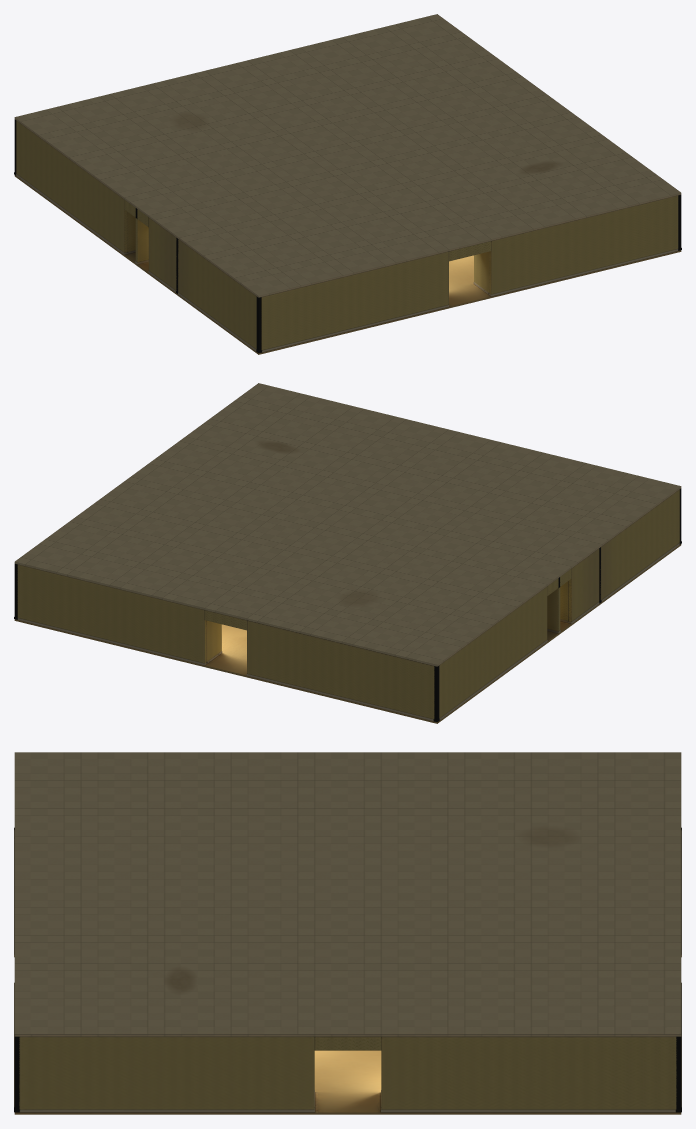
3 views of the same model, one above another, from view 1: azimuth 30°, elevation 25°; view 2: azimuth 150°, elevation 25°; view 3: azimuth 270°, elevation 25° (orthographic). The views are drawn at different scales.
Visible parts, largest first — view 1: Ceiling, Walls, Floor, Pillars; view 2: Ceiling, Walls, Floor, Pillars; view 3: Ceiling, Walls, Floor, Pillars.
Part boxes in pixels (box(x1,y1,x2,y2)): Ceiling: box(14, 14, 681, 297); Walls: box(14, 119, 681, 350); Floor: box(14, 175, 681, 354); Pillars: box(14, 172, 681, 353); Ceiling: box(14, 383, 681, 666); Walls: box(14, 488, 681, 719); Floor: box(14, 544, 681, 723); Pillars: box(14, 541, 681, 722); Ceiling: box(14, 752, 681, 1036); Walls: box(14, 1036, 681, 1109); Floor: box(14, 1050, 681, 1114); Pillars: box(14, 827, 681, 1112).
Size of what is drawn, in the model's own units: 24.04 by 3.2 by 24.04.
7 materials, 5 textured.
